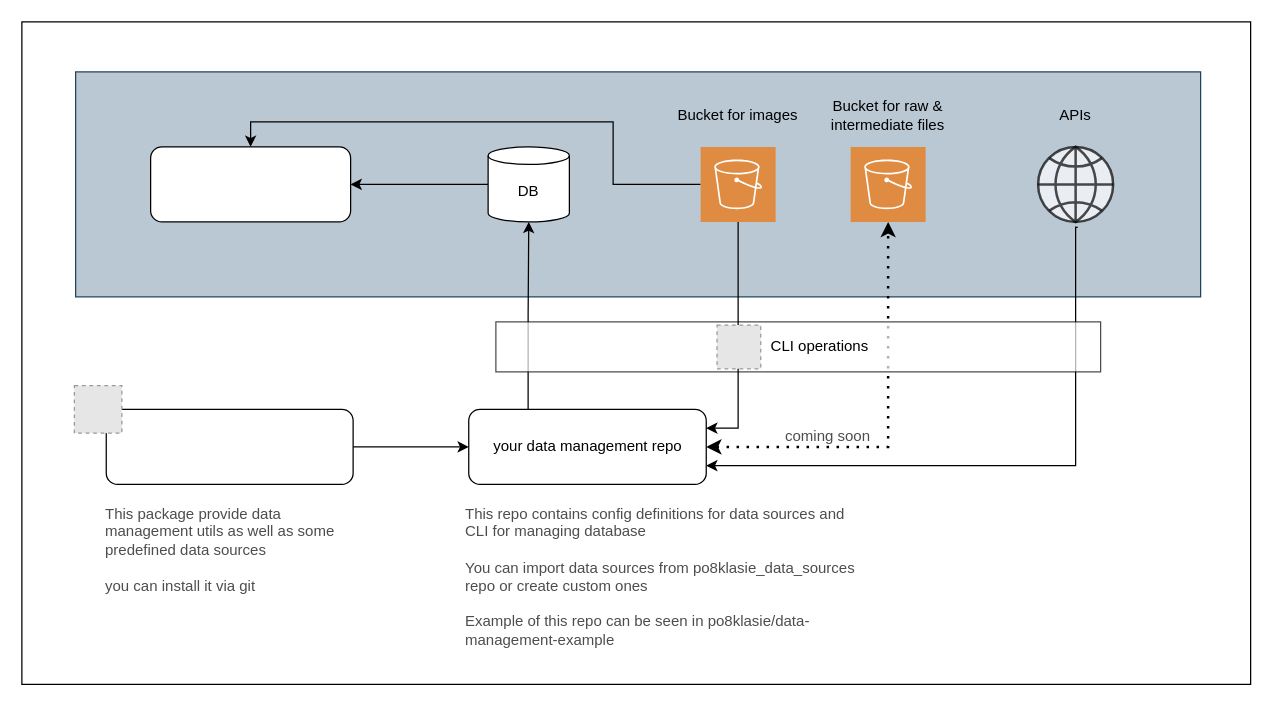
Some shapes in this 1273 by 706 pixel diagram are drawn without their labels. Grey dashed boxes stand in for pictures. The centre of each missing label's shape, as x and y in pixels:
Backend app (po8klasie-fastapi repo): (x=250, y=184)
po8klasie_data_sources package (po8klasie-data-sources repo): (x=229, y=446)
